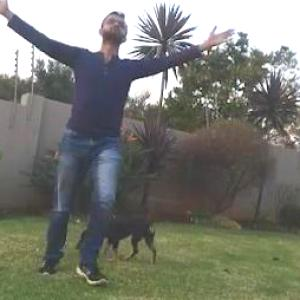takeoff: (0, 13, 212, 267)
